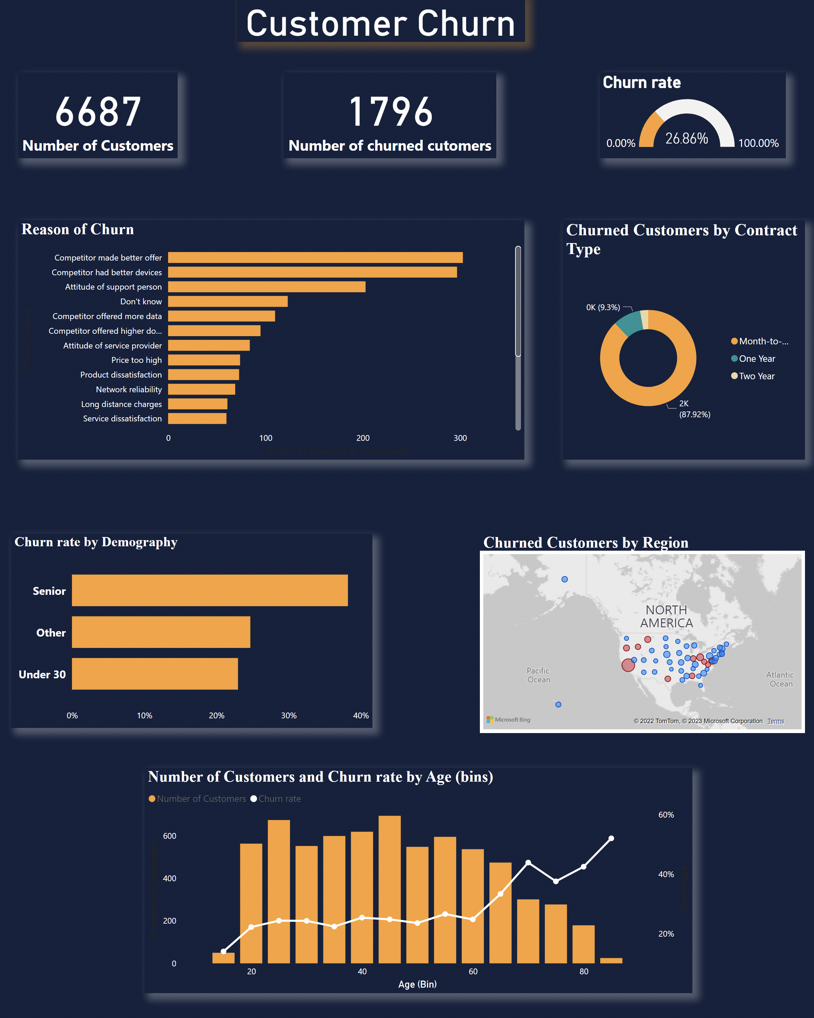

This screenshot's page, from the dashboard's own definition file:
{"tool":"powerbi","page":{"name":"Dashboard","canvas":[1200,1500],"ordinal":0},"visuals":[{"type":"card","fields":{"Values":["Databel - Data.Number of Customers"]},"box":[29.8,113.6,233.7,125.7],"z":0},{"type":"card","fields":{"Values":["Databel - Data.Number of churned cutomers"]},"box":[418,113.6,310.9,125.7],"z":1},{"type":"map","title":"Churned Customers by Region","fields":{"Category":["Databel - Data.State"],"Size":["Databel - Data.Churn rate"]},"box":[658.2,324.9,512,359.3],"z":3},{"type":"clusteredBarChart","title":"Reason of Churn","fields":{"Category":["Databel - Data.Churn Reason"],"Y":["CountNonNull(Databel - Data.Churned or Uncharned)"]},"box":[29.8,329.6,517.6,354.7],"z":4},{"type":"lineStackedColumnComboChart","fields":{"Y":["Databel - Data.Number of Customers"],"Y2":["Databel - Data.Churn rate"],"Category":["Databel - Data.Age (bins)"]},"box":[650.7,787.6,519.5,320.2],"z":5},{"type":"gauge","fields":{"Y":["Databel - Data.Churn rate"]},"box":[879.8,113.6,271.8,125.7],"z":6},{"type":"clusteredBarChart","title":"Churn rate by Demography","fields":{"Y":["Databel - Data.Churn rate"],"Category":["Databel - Data.Demographics"]},"box":[19.6,787.6,527.9,283.9],"z":7},{"type":"donutChart","title":"Churned Customers by Contract Type","fields":{"Category":["Databel - Data.Contract Type"],"Y":["Databel - Data.Number of churned cutomers"]},"box":[32.6,1131.1,514.8,268.1],"z":8},{"type":"card","fields":{"Values":["Databel - Data.Title"]},"box":[349.5,0,421,69.5],"z":9}]}

Visuals, with their boxes in screenshot pixels (x1, y1, x2, y2), scaled from the page's 1200x1500 canvas onto the 814x1018 screenshot:
card - Databel - Data.Number of Customers: pyautogui.locateOnScreen(20, 77, 179, 162)
card - Databel - Data.Number of churned cutomers: pyautogui.locateOnScreen(284, 77, 494, 162)
"Churned Customers by Region" map: pyautogui.locateOnScreen(446, 220, 794, 464)
"Reason of Churn" clusteredBarChart: pyautogui.locateOnScreen(20, 224, 371, 464)
lineStackedColumnComboChart - Databel - Data.Number of Customers x Databel - Data.Churn rate: pyautogui.locateOnScreen(441, 535, 794, 752)
gauge - Databel - Data.Churn rate: pyautogui.locateOnScreen(597, 77, 781, 162)
"Churn rate by Demography" clusteredBarChart: pyautogui.locateOnScreen(13, 535, 371, 727)
"Churned Customers by Contract Type" donutChart: pyautogui.locateOnScreen(22, 768, 371, 950)
card - Databel - Data.Title: pyautogui.locateOnScreen(237, 0, 523, 47)
